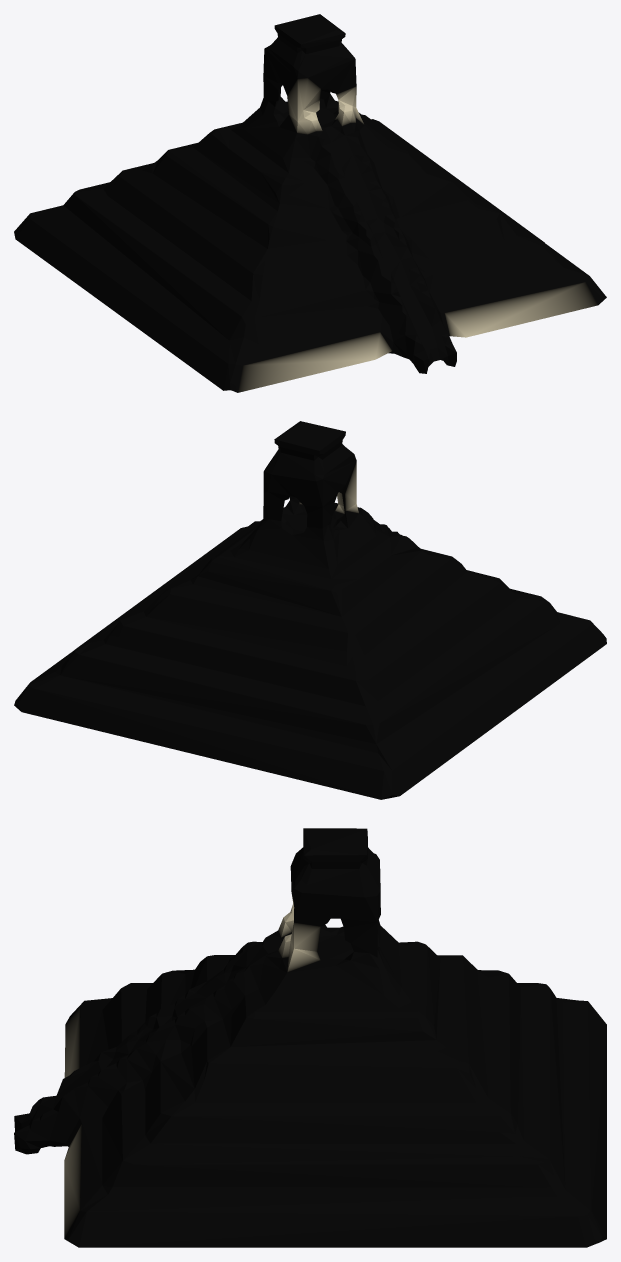
Rendered from Aztec Pyramids(1).glb.
3 renders of one model, top to bottom at view 1: azimuth 30°, elevation 25°; view 2: azimuth 150°, elevation 25°; view 3: azimuth 270°, elevation 25°, orthographic. The views are drawn at different scales.
Parts seen in each view (by area): view 1: Root; view 2: Root; view 3: Root.
Boxes of the visible parts, x1=… form: Root: x1=14, y1=14, x2=606, y2=392; Root: x1=14, y1=421, x2=606, y2=799; Root: x1=14, y1=828, x2=606, y2=1247.
Bounding box in the file's own units: 22.96 × 14.27 × 25.09.
